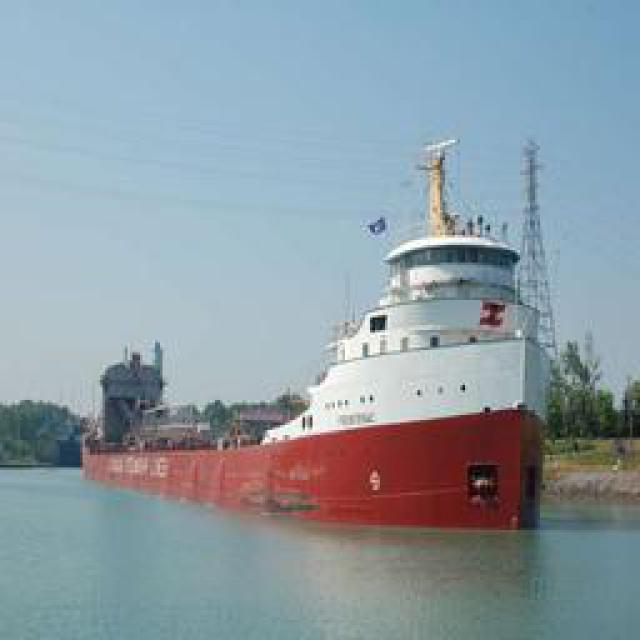Ship: (185, 141, 548, 539)
